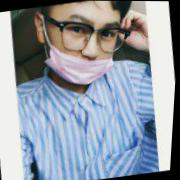WRONG: (44, 1, 130, 88)
